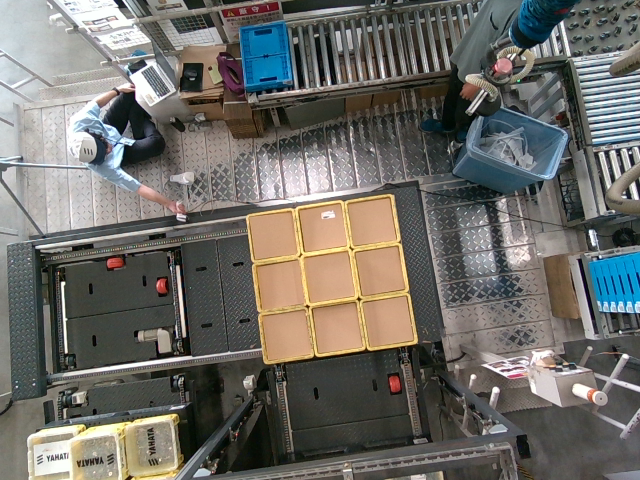box: (245, 210, 300, 262), (292, 201, 347, 253), (342, 196, 397, 248), (352, 245, 407, 297), (301, 252, 356, 304), (250, 257, 305, 309), (259, 312, 314, 364), (309, 302, 364, 354), (360, 293, 415, 345)
